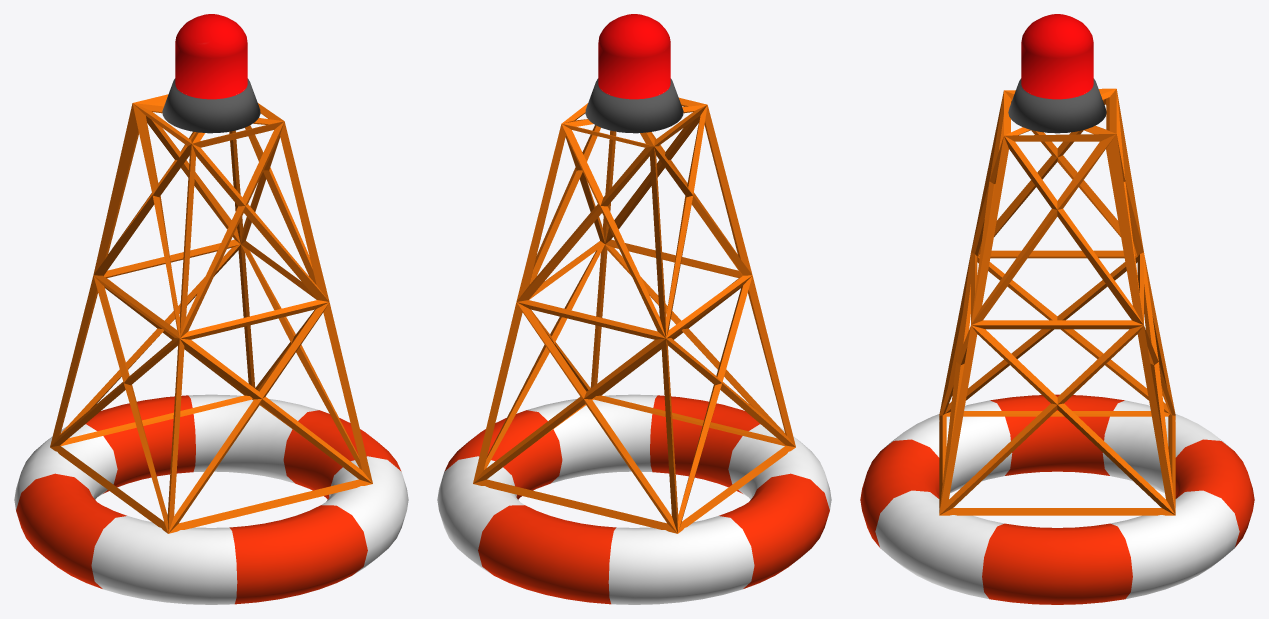
The model's file is floting triangle.obj.
3 views of the same model, side by side, from view 1: azimuth 30°, elevation 25°; view 2: azimuth 150°, elevation 25°; view 3: azimuth 270°, elevation 25° (orthographic).
Parts seen in each view (by area): view 1: Torus, Cube, Cylinder; view 2: Torus, Cube, Cylinder; view 3: Torus, Cube, Cylinder.
Part boxes in pixels (<box>): Torus: <box>14,394,408,604</box>; Cube: <box>50,94,372,533</box>; Cylinder: <box>162,14,260,133</box>; Torus: <box>437,394,831,604</box>; Cube: <box>473,97,795,533</box>; Cylinder: <box>585,14,683,133</box>; Torus: <box>860,394,1254,604</box>; Cube: <box>939,88,1175,515</box>; Cylinder: <box>1008,14,1106,133</box>.
Bounding box in the file's own units: 3.42 × 4.93 × 3.42.
Materials: 3 (3 with a texture image).
